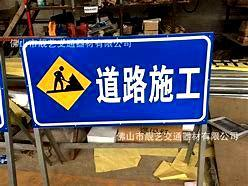sign: (20, 35, 209, 121)
